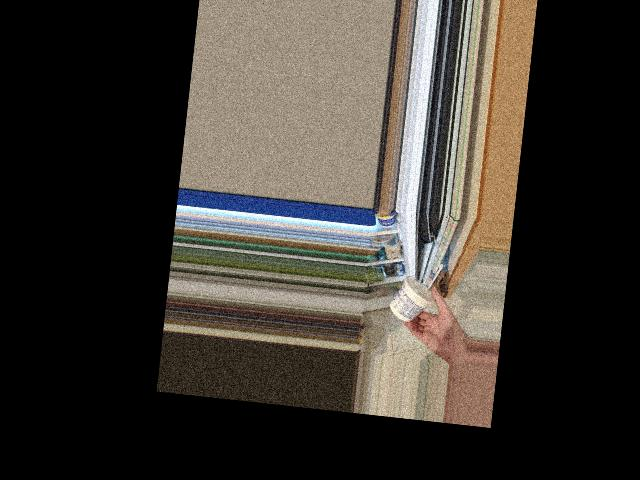cotage: (392, 277, 440, 326)
